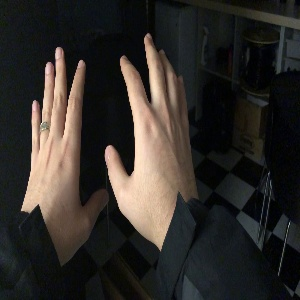hand: (105, 32, 198, 209), (26, 47, 109, 232)
